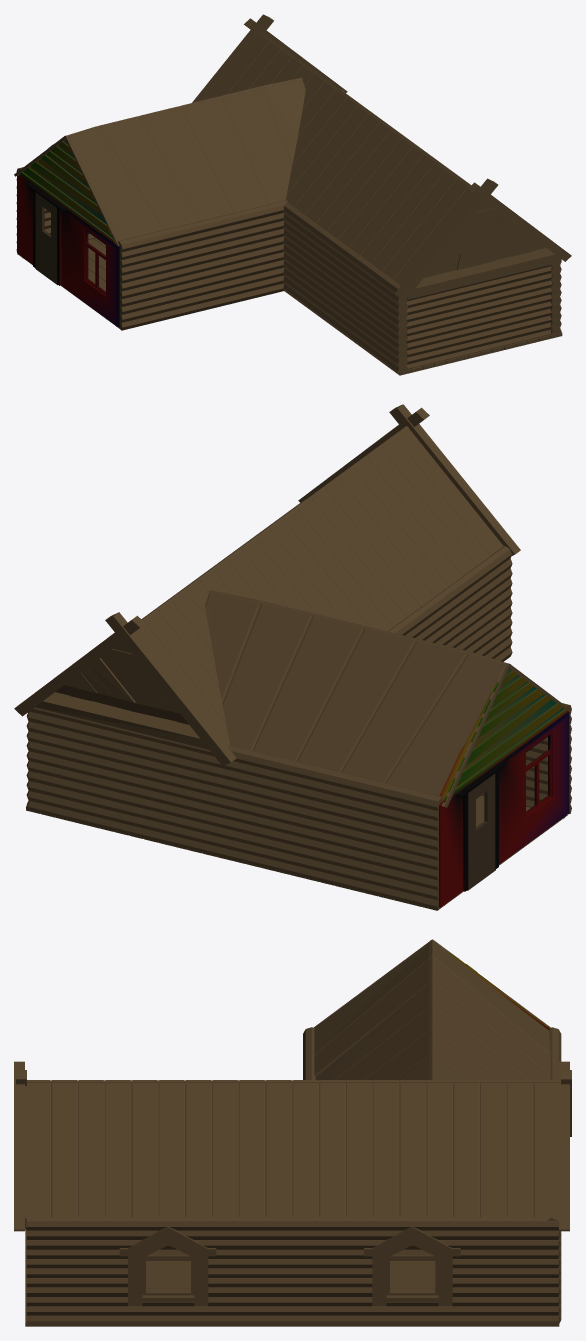
Rendered from Casa bosque 3.fbx.
The picture shows the model from 3 angles, top to bottom: view 1: azimuth 30°, elevation 25°; view 2: azimuth 150°, elevation 25°; view 3: azimuth 270°, elevation 25°; orthographic projection. The views are drawn at different scales.
Visible parts, largest first — view 1: Roof_01_b, Roof_01_b.003, Wall_Wide_02_b.003, Wall_Wide_02_b.001, Wall_Narrow_02_b, Wall_Narrow_01_a, Door_01, Wall_Wide_01_b.001, Floor_01_c.001, Floor_01_c; view 2: Roof_01_b, Wall_Wide_02_b.002, Roof_01_b.003, Wall_Narrow_01_a, Wall_Wide_02_b.001, Door_01, Wall_Wide_02_b.003, Floor_01_c; view 3: Roof_01_b, Wall_Wide_01_b.001, Roof_01_b.003, Floor_01_c.001, Wall_Wide_02_b.002, Wall_Wide_02_b.003.
Boxes of the visible parts, x1,y1,x2,y2 form: Roof_01_b: (192,14,571,299); Roof_01_b.003: (14,77,305,246); Wall_Wide_02_b.003: (116,200,287,330); Wall_Wide_02_b.001: (283,202,407,374); Wall_Narrow_02_b: (406,265,552,369); Wall_Narrow_01_a: (17,140,119,327); Door_01: (35,192,57,285); Wall_Wide_01_b.001: (345,93,561,334); Floor_01_c.001: (399,332,562,375); Floor_01_c: (18,238,120,329); Roof_01_b: (14,404,520,765); Wall_Wide_02_b.002: (28,707,444,910); Roof_01_b.003: (205,590,570,807); Wall_Narrow_01_a: (439,669,569,907); Wall_Wide_02_b.001: (388,546,512,661); Door_01: (467,773,495,890); Wall_Wide_02_b.003: (481,703,571,818); Floor_01_c: (231,795,567,910); Roof_01_b: (14,1061,571,1231); Wall_Wide_01_b.001: (26,1217,558,1322); Roof_01_b.003: (314,939,550,1080); Floor_01_c.001: (25,1230,559,1326); Wall_Wide_02_b.002: (547,1027,561,1323); Wall_Wide_02_b.003: (303,1027,315,1079).
Size of the model in its own units: 854 by 426 by 1013.
